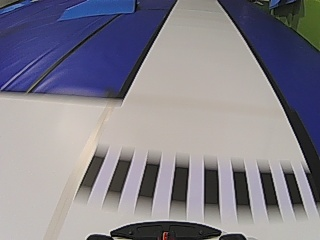CrossWalk: (82, 154, 302, 211)
